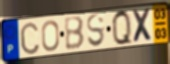B: (63, 15, 86, 51)
C: (19, 20, 41, 56)
O: (41, 19, 61, 53)
Q: (110, 9, 134, 48)
S: (86, 13, 106, 49)
X: (131, 8, 155, 44)
